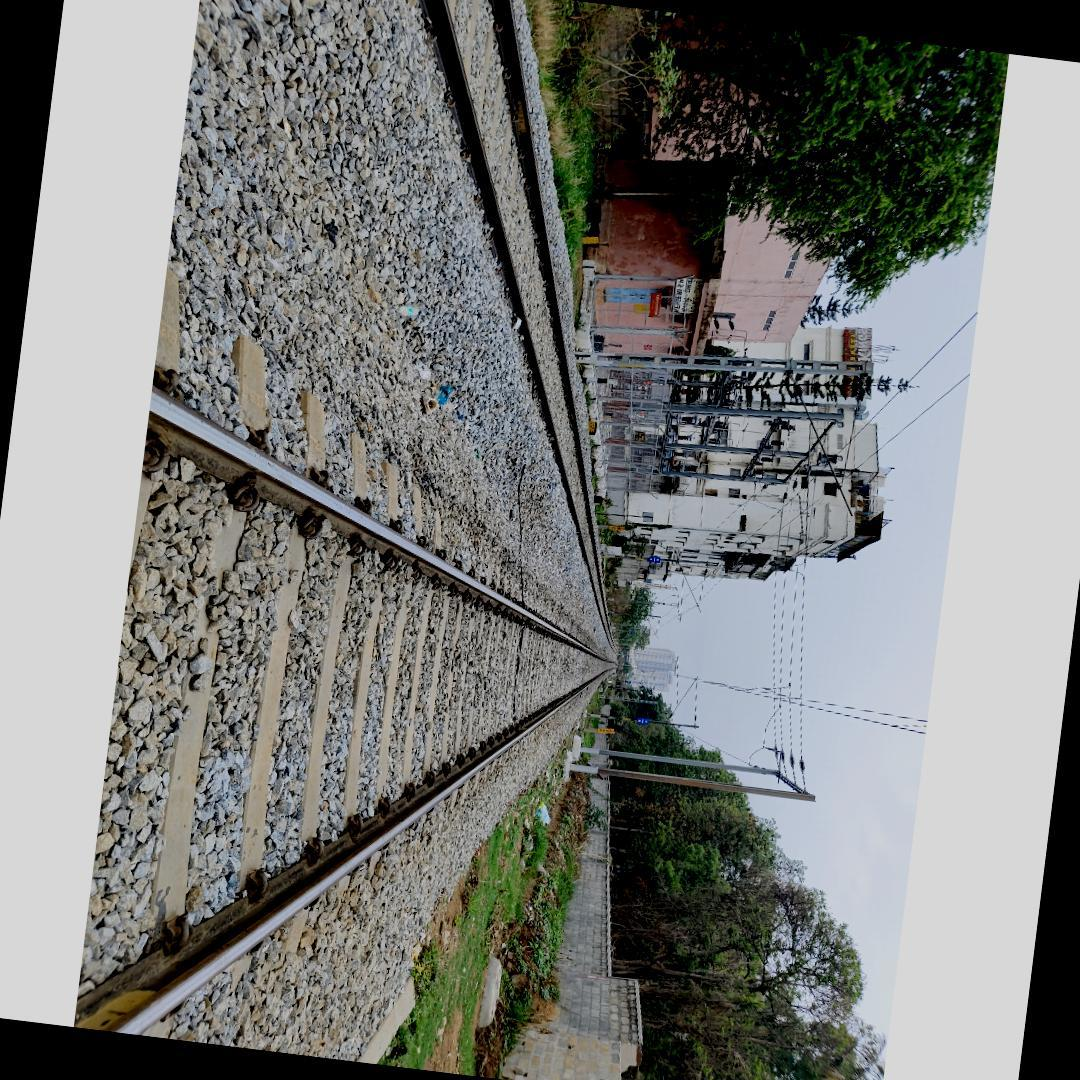track: (72, 360, 616, 1036)
